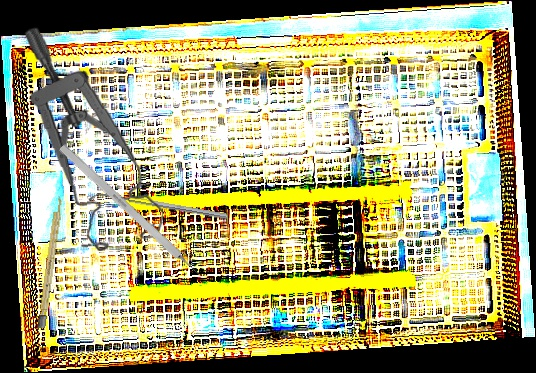Hook Surgical: (58, 143, 211, 286)
Scalpel Handle: (37, 195, 64, 329)
Spatula Surgical: (87, 189, 228, 225)
Speculum: (24, 20, 165, 255)
